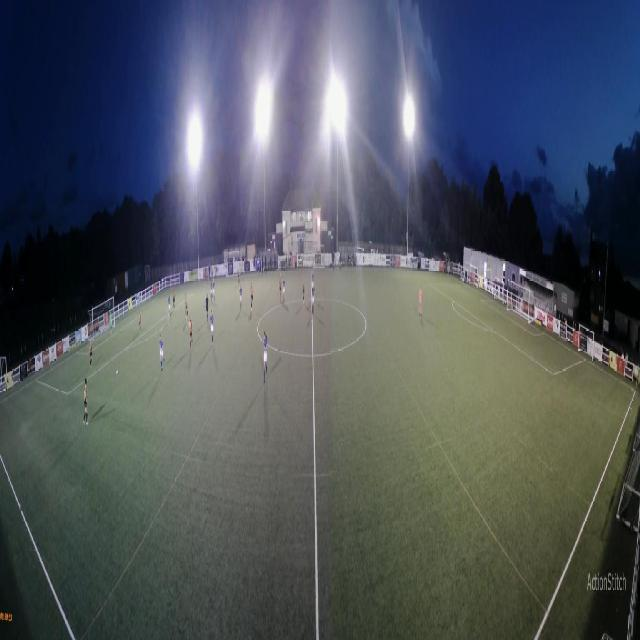ball: (116, 368, 118, 375)
player: (83, 378, 89, 426), (159, 334, 165, 371), (264, 331, 268, 383), (187, 317, 193, 348), (210, 310, 214, 346), (418, 286, 422, 316), (184, 294, 188, 321), (283, 275, 286, 306), (250, 282, 253, 312), (312, 284, 315, 314), (89, 340, 92, 369), (302, 276, 305, 305), (206, 293, 209, 321), (239, 284, 242, 312), (213, 277, 216, 304), (168, 294, 171, 320), (110, 311, 113, 335), (237, 267, 240, 286), (280, 272, 282, 300), (311, 271, 314, 289), (139, 309, 141, 333), (210, 281, 212, 302), (173, 290, 175, 309)
